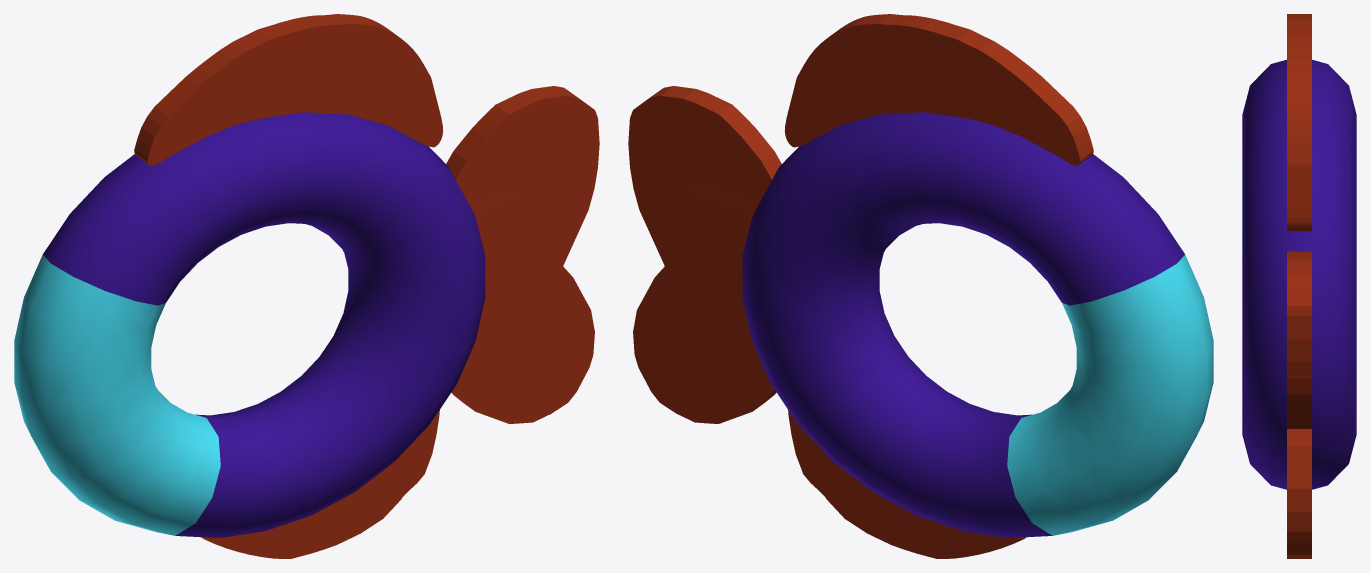
Rendered from lowpoly fish toys.FBX.
3 renders of one model, left to right at view 1: azimuth 30°, elevation 25°; view 2: azimuth 150°, elevation 25°; view 3: azimuth 270°, elevation 25°, orthographic. The views are drawn at different scales.
Parts seen in each view (by area): view 1: Line006; view 2: Line006; view 3: Line006.
Part boxes in pixels (box(x1,y1,x2,y2)): Line006: box(14, 14, 599, 558); Line006: box(628, 14, 1213, 558); Line006: box(1242, 14, 1356, 558).
Size of the model in its own units: 493 by 434 by 92.16.
